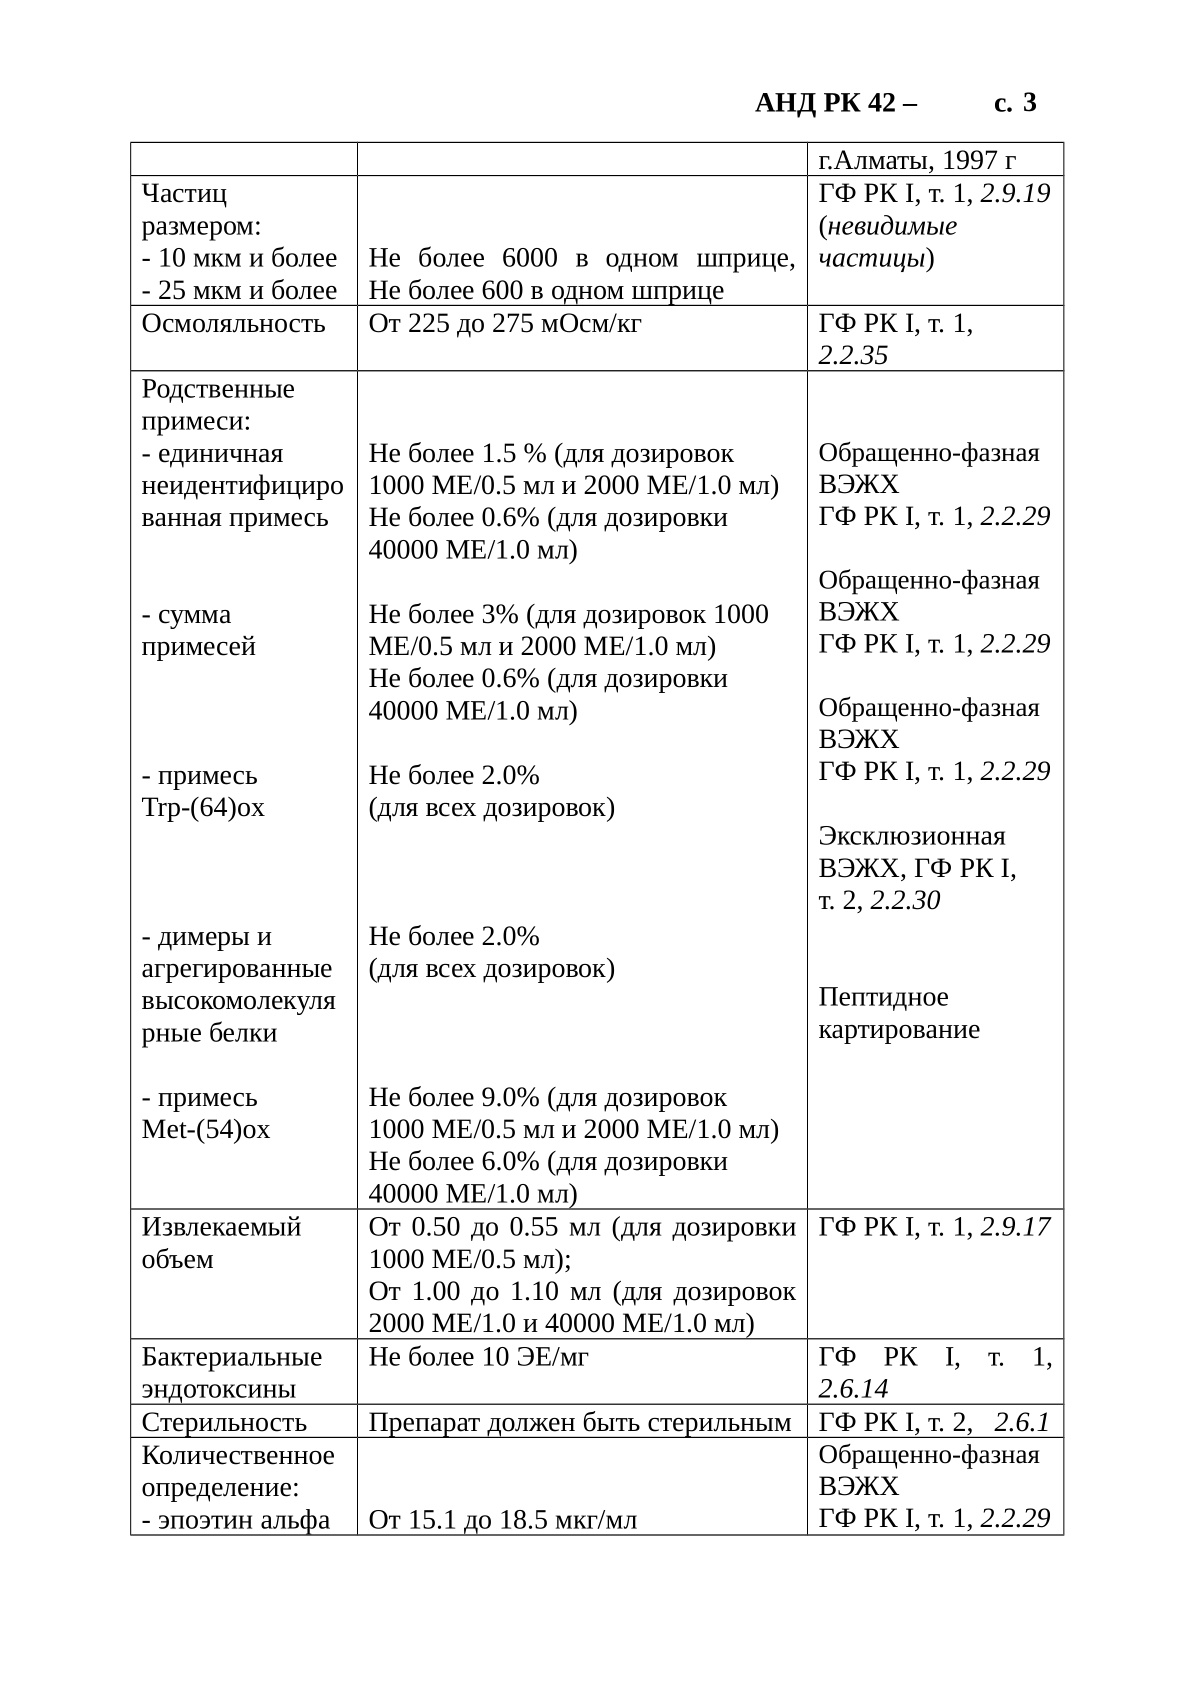full_lined: (129, 140, 1066, 1537)
